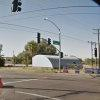Traffic light: (3, 0, 34, 19)
